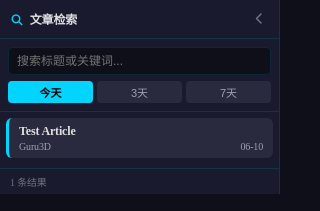
Test: SearchPanel › collapses when chevron clicked
Step 1. Click the button titled "收起面板" → (260, 19), box [250,10,269,28]
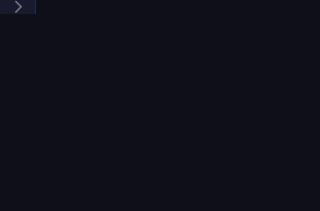
Result: the field with placeholder "搜索标题或关键词..." is gone
